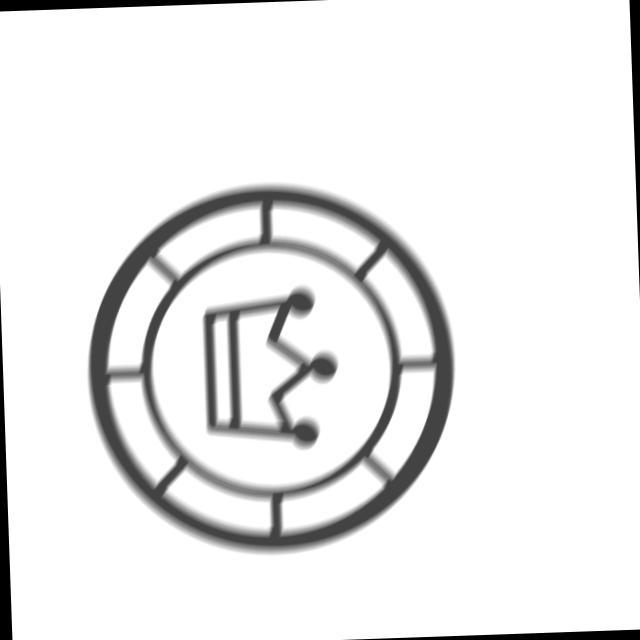coin: (72, 170, 469, 567)
